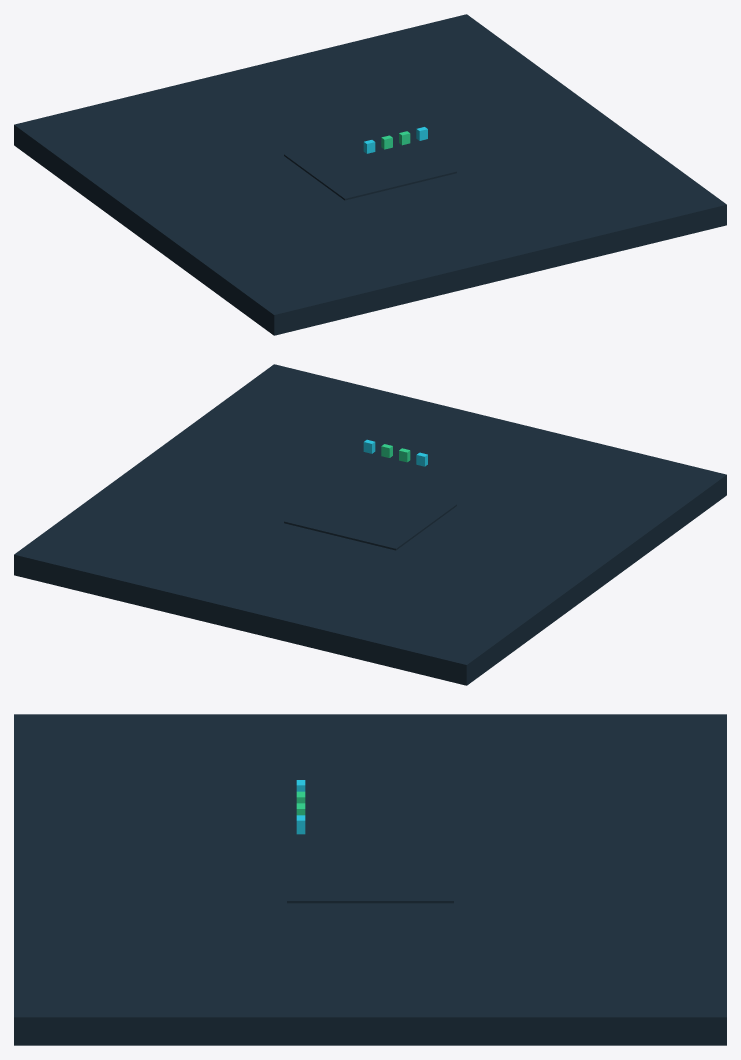
The model's file is 43_L78_PrecisionUVCureShutter.fbx.
3 views of the same model, one above another, from view 1: azimuth 30°, elevation 25°; view 2: azimuth 150°, elevation 25°; view 3: azimuth 270°, elevation 25° (orthographic). The views are drawn at different scales.
Parts seen in each view (by area): view 1: PrecisionUVCureShutter, PrecisionUVCureShutter_Part_0014; view 2: PrecisionUVCureShutter, PrecisionUVCureShutter_Part_0014; view 3: PrecisionUVCureShutter, PrecisionUVCureShutter_Part_0014.
Boxes of the visible parts, x1,y1,x2,y2 form: PrecisionUVCureShutter: [14, 14, 726, 335]; PrecisionUVCureShutter_Part_0014: [284, 127, 456, 200]; PrecisionUVCureShutter: [14, 364, 726, 685]; PrecisionUVCureShutter_Part_0014: [284, 477, 456, 550]; PrecisionUVCureShutter: [14, 714, 726, 1045]; PrecisionUVCureShutter_Part_0014: [287, 826, 453, 903].
Bounding box in the file's own units: 206 × 32.27 × 205.
